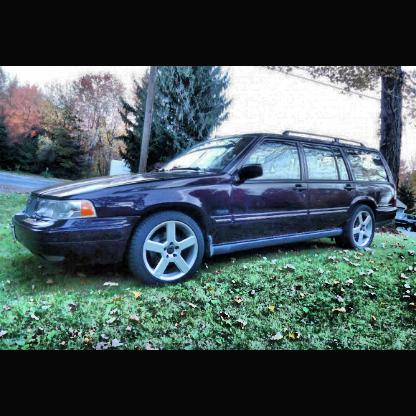Audi 100 Wagon 1994: (13, 130, 400, 288)
